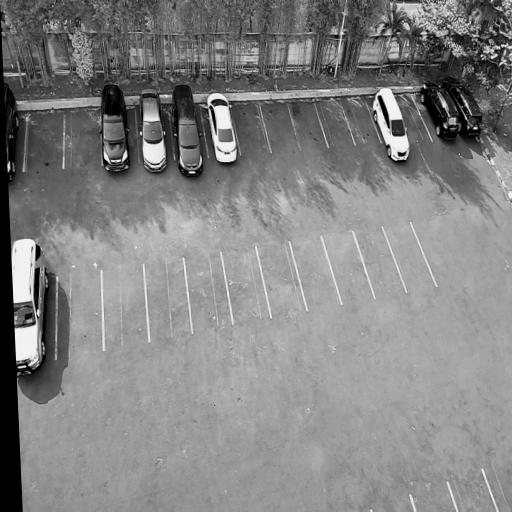Car: (12, 234, 50, 382), (170, 82, 208, 179), (368, 85, 414, 165), (99, 82, 134, 177), (414, 75, 462, 143), (439, 69, 485, 138), (135, 86, 169, 176), (202, 91, 241, 165), (4, 79, 20, 184)
Space Available: (56, 271, 103, 359), (144, 258, 192, 341), (184, 251, 232, 333), (103, 265, 149, 350), (321, 231, 374, 304), (290, 236, 342, 310), (382, 222, 436, 292), (353, 227, 406, 298), (221, 247, 270, 322), (257, 242, 306, 316), (24, 114, 64, 172), (64, 112, 102, 168), (448, 470, 497, 512), (260, 104, 301, 151), (232, 105, 271, 154), (288, 104, 328, 151), (315, 101, 355, 147), (340, 101, 381, 145), (396, 95, 432, 143), (482, 459, 512, 512), (410, 481, 458, 512)
